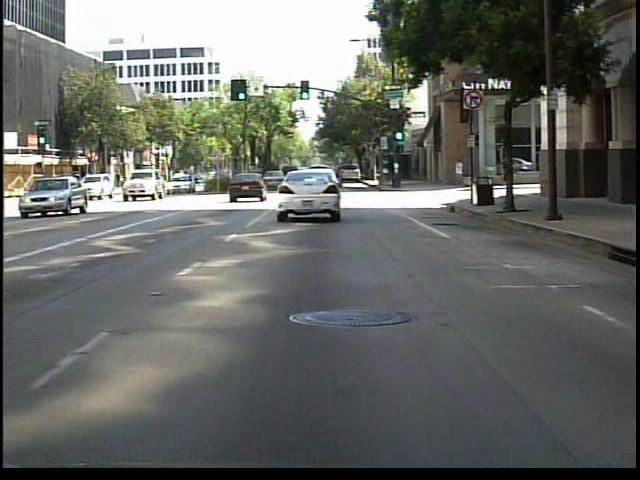person: (450, 155, 467, 194)
